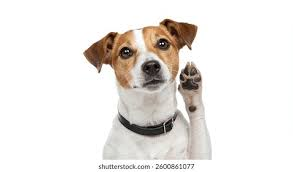dog: (80, 18, 214, 159)
